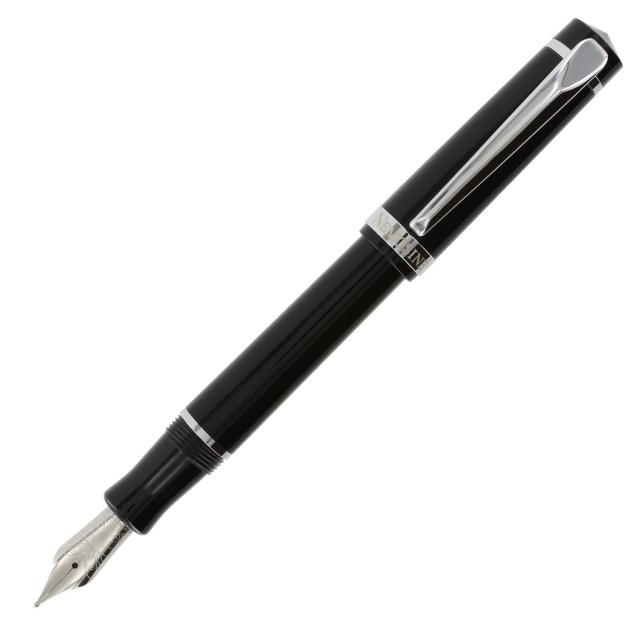pen: (35, 17, 624, 609)
